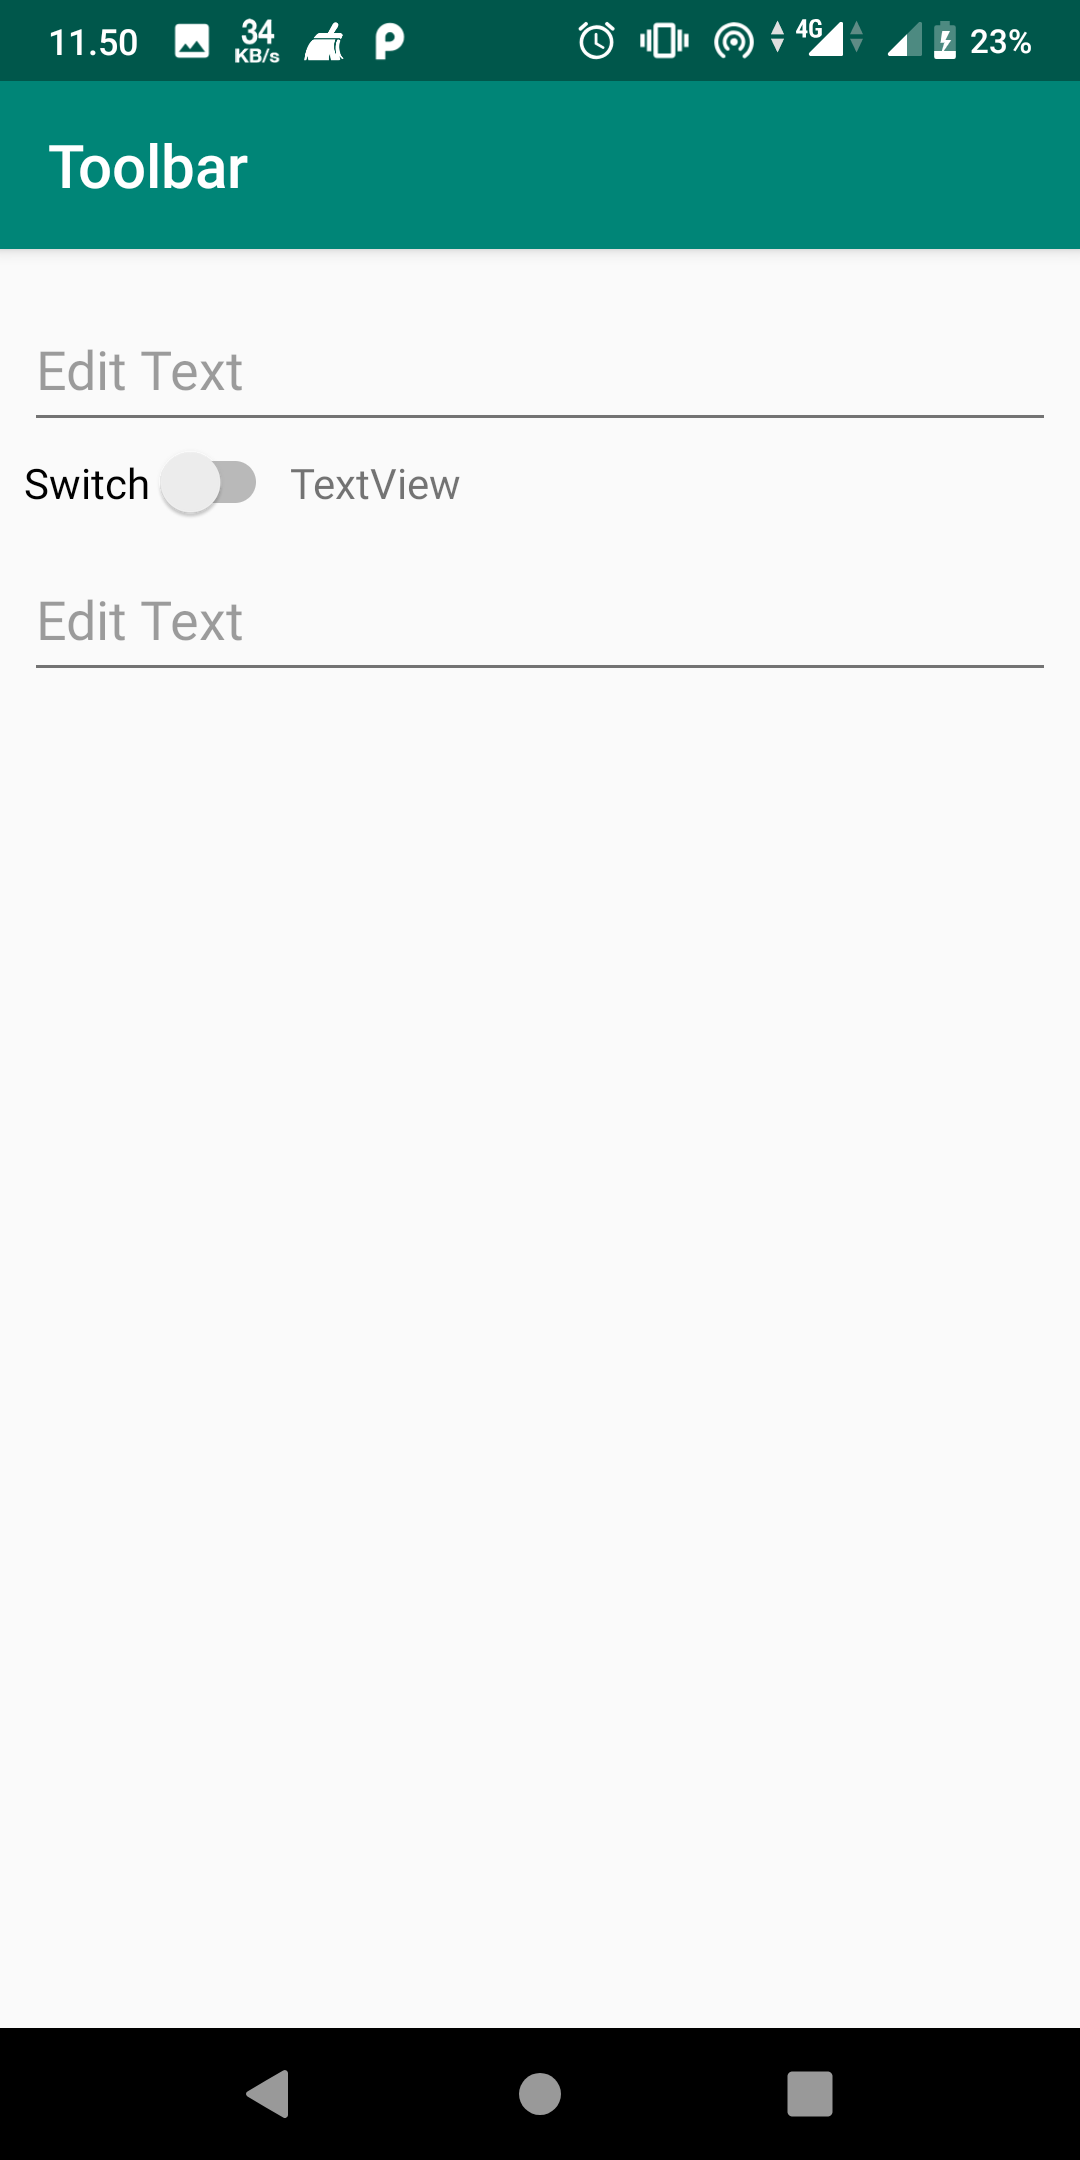editText: (22, 337, 1057, 438), (32, 585, 1063, 681)
switch: (15, 450, 270, 519)
textView: (280, 457, 467, 512)
toolbar: (6, 83, 1079, 248)
